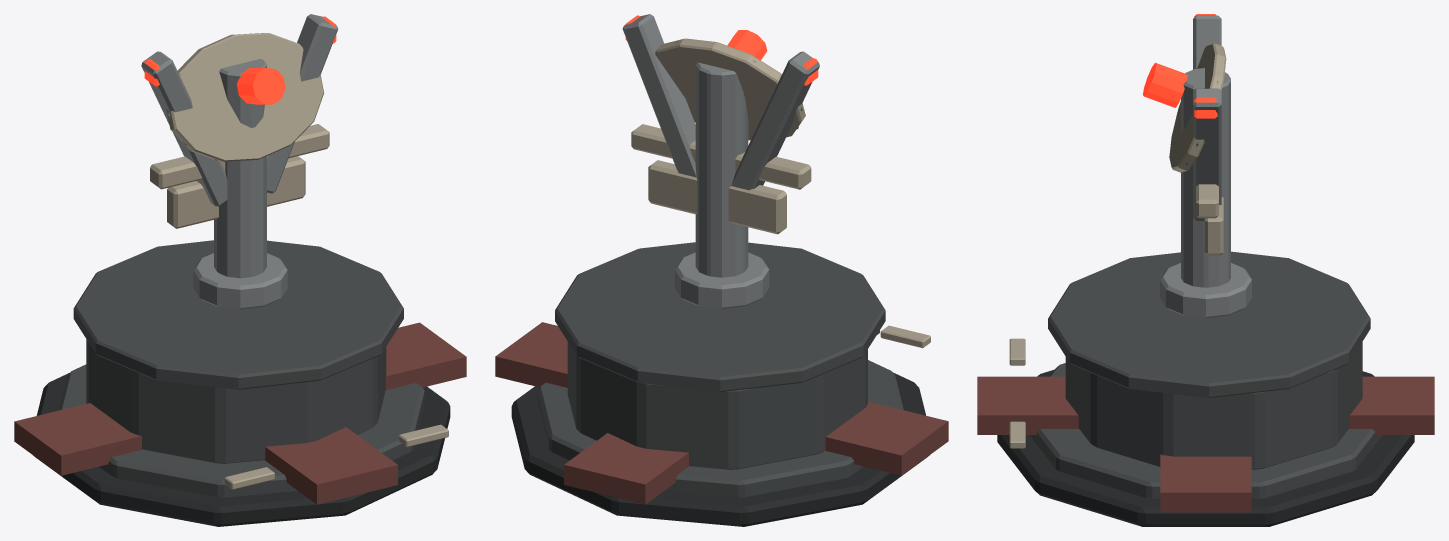
File: ff_en_rel_01_v1.glb
3 renders of one model, left to right at view 1: azimuth 30°, elevation 25°; view 2: azimuth 150°, elevation 25°; view 3: azimuth 270°, elevation 25°, orthographic. The views are drawn at different scales.
Parts seen in each view (by area): view 1: FF_EN_REL_01_M_EnemyObsidianArmor_runtime, radar_yaw_M_EnemyMarking_runtime, FF_EN_REL_01_M_EnemyCrimsonArmor_runtime, radar_yaw_M_EnemyGunmetal_runtime, FF_EN_REL_01_M_EnemyRecess_runtime, radar_yaw_M_EnemySignal_runtime, FF_EN_REL_01_M_EnemyMarking_runtime; view 2: FF_EN_REL_01_M_EnemyObsidianArmor_runtime, radar_yaw_M_EnemyGunmetal_runtime, FF_EN_REL_01_M_EnemyCrimsonArmor_runtime, radar_yaw_M_EnemyMarking_runtime, FF_EN_REL_01_M_EnemyRecess_runtime, radar_yaw_M_EnemySignal_runtime, FF_EN_REL_01_M_EnemyMarking_runtime; view 3: FF_EN_REL_01_M_EnemyObsidianArmor_runtime, FF_EN_REL_01_M_EnemyCrimsonArmor_runtime, radar_yaw_M_EnemyGunmetal_runtime, FF_EN_REL_01_M_EnemyRecess_runtime, radar_yaw_M_EnemyMarking_runtime, radar_yaw_M_EnemySignal_runtime, FF_EN_REL_01_M_EnemyMarking_runtime.
Boxes of the visible parts, x1,y1,x2,y2 form: FF_EN_REL_01_M_EnemyObsidianArmor_runtime: (59,240,424,497); radar_yaw_M_EnemyMarking_runtime: (150,33,329,228); FF_EN_REL_01_M_EnemyCrimsonArmor_runtime: (14,322,466,504); radar_yaw_M_EnemyGunmetal_runtime: (141,14,338,309); FF_EN_REL_01_M_EnemyRecess_runtime: (33,373,450,526); radar_yaw_M_EnemySignal_runtime: (144,16,336,104); FF_EN_REL_01_M_EnemyMarking_runtime: (224,424,448,489); FF_EN_REL_01_M_EnemyObsidianArmor_runtime: (537,242,903,497); radar_yaw_M_EnemyGunmetal_runtime: (622,14,819,308); FF_EN_REL_01_M_EnemyCrimsonArmor_runtime: (495,322,948,504); radar_yaw_M_EnemyMarking_runtime: (631,38,811,234); FF_EN_REL_01_M_EnemyRecess_runtime: (511,372,929,526); radar_yaw_M_EnemySignal_runtime: (625,15,818,85); FF_EN_REL_01_M_EnemyMarking_runtime: (880,325,930,348); FF_EN_REL_01_M_EnemyObsidianArmor_runtime: (1030,251,1381,498); FF_EN_REL_01_M_EnemyCrimsonArmor_runtime: (977,376,1434,512); radar_yaw_M_EnemyGunmetal_runtime: (1160,15,1251,318); FF_EN_REL_01_M_EnemyRecess_runtime: (997,369,1414,526); radar_yaw_M_EnemyMarking_runtime: (1169,43,1226,255); radar_yaw_M_EnemySignal_runtime: (1143,14,1217,118); FF_EN_REL_01_M_EnemyMarking_runtime: (1009,338,1025,448).
Bounding box in the file's own units: 6.75 × 6.39 × 6.75.
